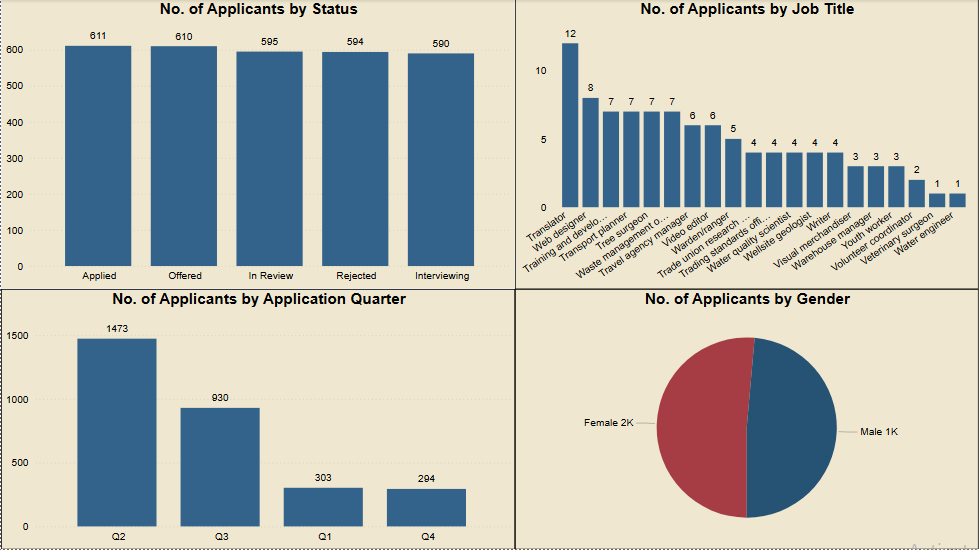

Layout of this report page (visuals, bound fields, positions):
{"tool":"powerbi","page":{"name":"Recruitment Data","canvas":[1280,720],"ordinal":2},"visuals":[{"type":"clusteredColumnChart","fields":{"Y":["recruitment_data.No. of Applicants"],"Category":["recruitment_data.Job Title"]},"box":[673.2,0,606.8,379.6],"z":0},{"type":"clusteredColumnChart","fields":{"Y":["recruitment_data.No. of Applicants"],"Category":["recruitment_data.Status"]},"box":[0,0,673.2,379.6],"z":1000},{"type":"clusteredColumnChart","fields":{"Y":["recruitment_data.No. of Applicants"],"Category":["recruitment_data.Application Quarter"]},"box":[0,379.6,673.2,340.8],"z":2000},{"type":"pieChart","fields":{"Category":["recruitment_data.Gender"],"Y":["recruitment_data.No. of Applicants"]},"box":[673.2,379.6,606.8,340.8],"z":3000}]}

Visuals, with their boxes in screenshot pixels (x1, y1, x2, y2), scaled from the page's 1280x720 canvas onto the 979x550 screenshot:
clusteredColumnChart - recruitment_data.No. of Applicants x recruitment_data.Job Title: 515/0/978/290
clusteredColumnChart - recruitment_data.No. of Applicants x recruitment_data.Status: 0/0/515/290
clusteredColumnChart - recruitment_data.No. of Applicants x recruitment_data.Application Quarter: 0/290/515/549
pieChart - recruitment_data.Gender x recruitment_data.No. of Applicants: 515/290/978/549
